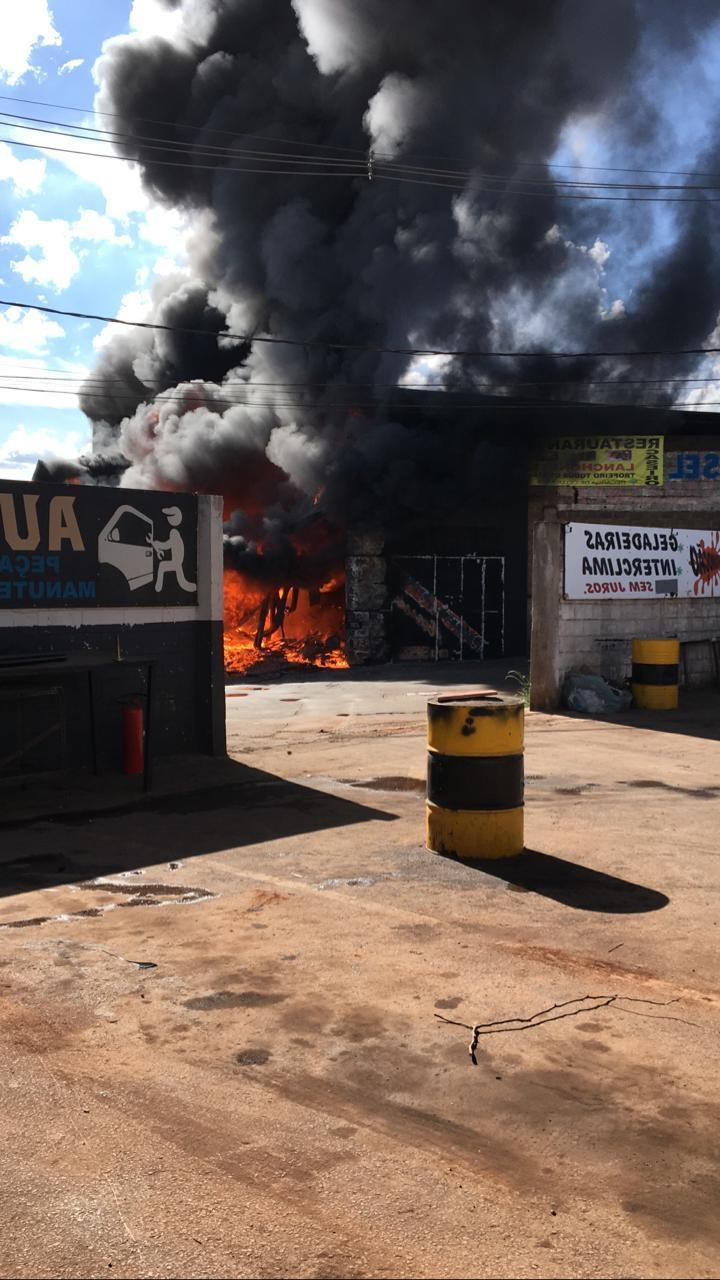Fire: (225, 571, 351, 672)
